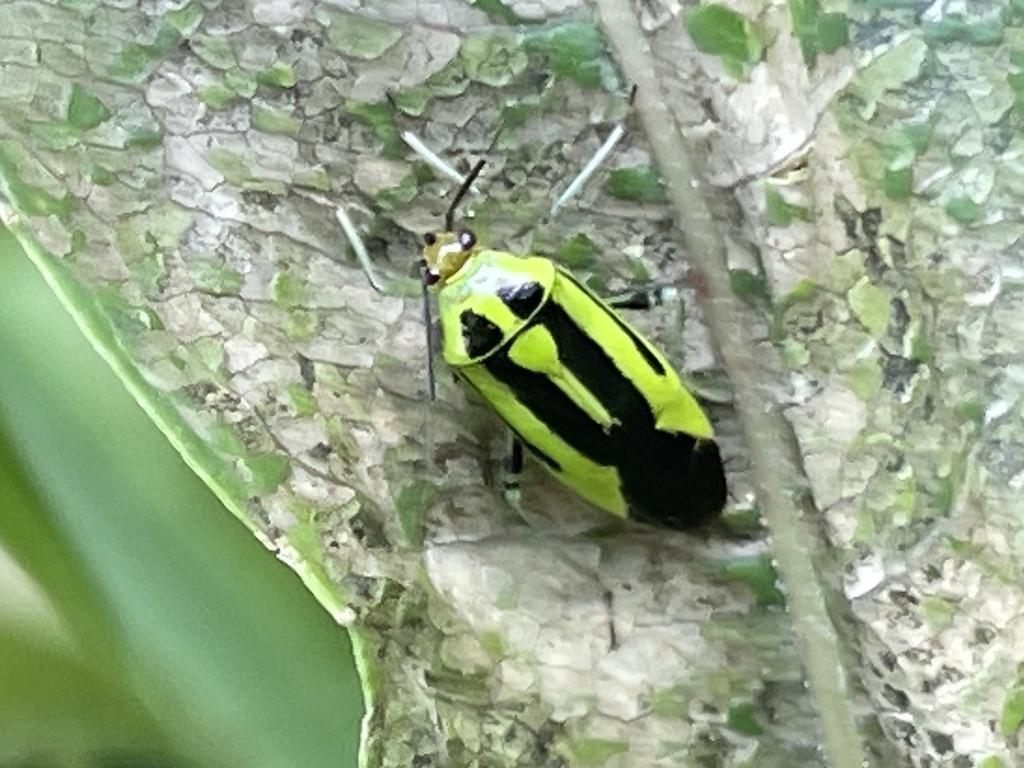plant_bugs: (348, 107, 794, 597)
